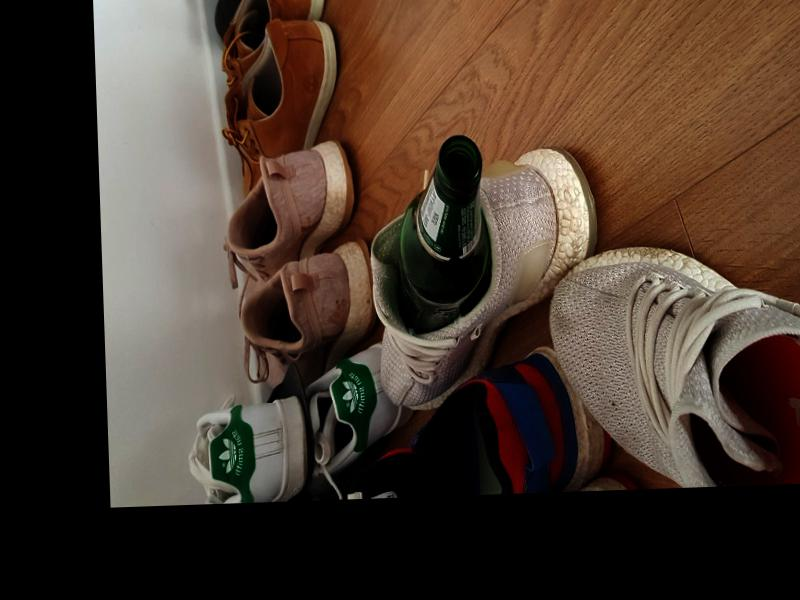Beer: (391, 133, 489, 332)
